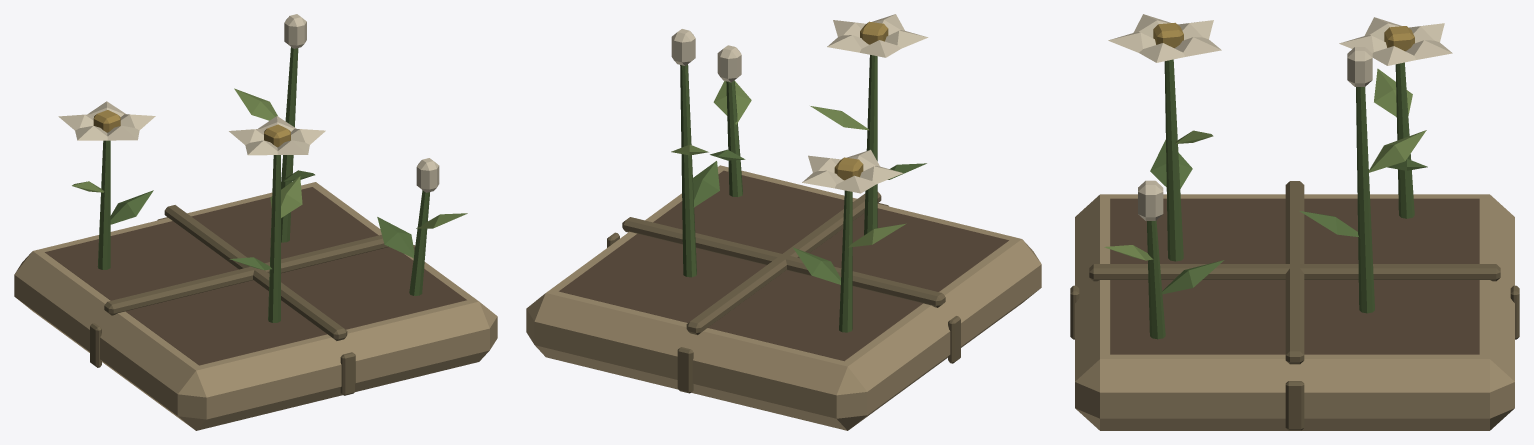
Rendered from flowers_1_packed_spring.glb.
3 views of the same model, side by side, from view 1: azimuth 30°, elevation 25°; view 2: azimuth 150°, elevation 25°; view 3: azimuth 270°, elevation 25° (orthographic). The views are drawn at different scales.
Parts seen in each view (by area): view 1: flowers_1_packed_spring; view 2: flowers_1_packed_spring; view 3: flowers_1_packed_spring.
Part boxes in pixels (x1,y1,x2,y2): flowers_1_packed_spring: (14,14,497,430); flowers_1_packed_spring: (526,14,1041,430); flowers_1_packed_spring: (1070,14,1519,430).
Size of the model in its own units: 1.25 by 1.03 by 1.25.
